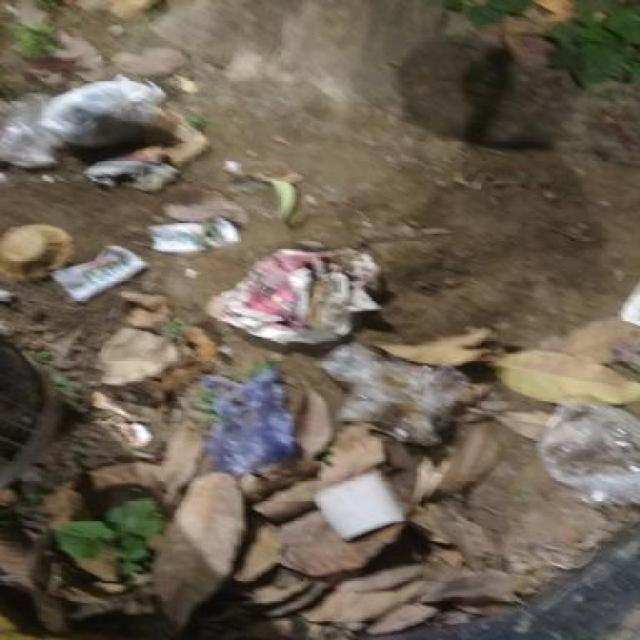garbage: (6, 74, 640, 640)
